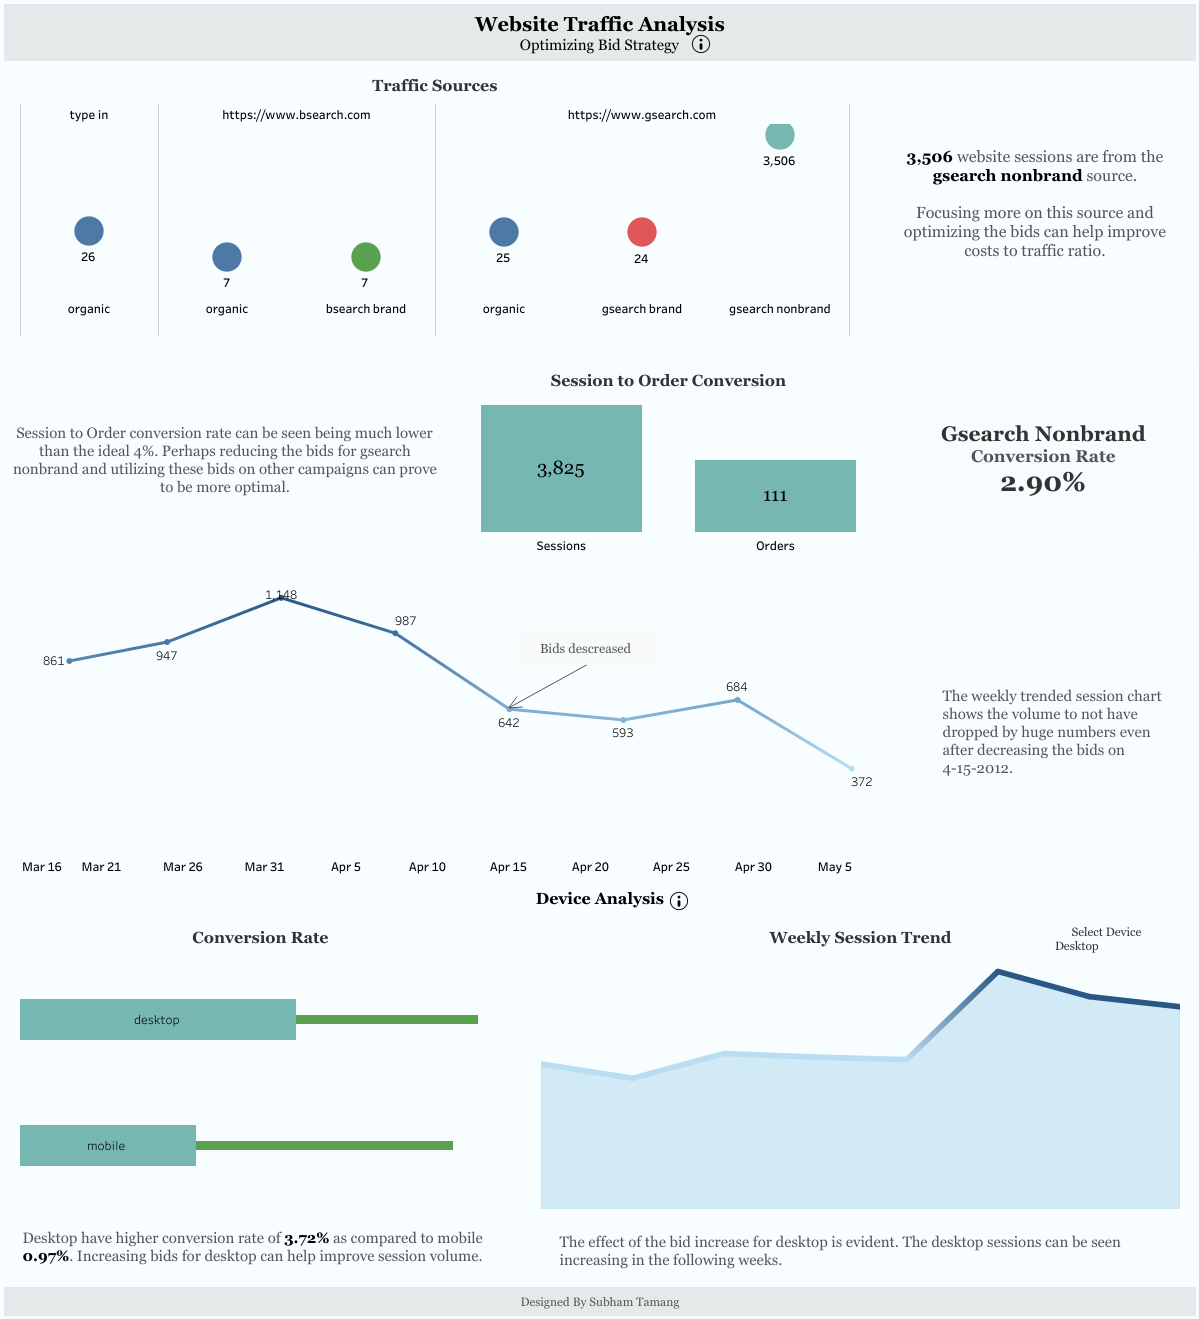

The page's visual inventory and layout, read from the dashboard file:
{"tool":"tableau","page":{"name":"Dashboard","canvas":[1200,1320],"ordinal":0},"visuals":[{"type":"text","box":[0,0,1200,65]},{"type":"worksheet","title":"Info","mark":"Shape","box":[688,31,25,25]},{"type":"worksheet","title":"Session Source","mark":"Shape","rows":["sessions"],"cols":["http_referer","Calculation_175640444484722689"],"box":[0,65,870,276]},{"type":"text","box":[870,65,330,276]},{"type":"blank","box":[0,341,1200,20]},{"type":"text","box":[0,361,450,197]},{"type":"worksheet","title":"Session to Order","mark":"Automatic","box":[450,361,437,197]},{"type":"worksheet","title":"Conversion Rate","mark":"Text","box":[887,361,313,197]},{"type":"blank","box":[0,558,1200,20]},{"type":"worksheet","title":"Weekly Trend","mark":"Automatic","rows":["sessions (3.trended analysis_.csv)"],"cols":["week_start_date"],"box":[0,578,920,307]},{"type":"text","box":[920,578,280,307]},{"type":"text","box":[0,885,1200,27]},{"type":"worksheet","title":"Info (2)","mark":"Shape","box":[666,888,25,25]},{"type":"worksheet","title":"Device CVR","mark":"Bar","rows":["device_type"],"cols":["sessions (4. device type_.csv)","orders (4. device type_.csv)"],"box":[0,912,521,307]},{"type":"worksheet","title":"Device Trend","mark":"Area","rows":["Calculation_557883462954016770","Calculation_557883462954016770"],"cols":["week_start_date (5. Response to bid changes.csv)"],"box":[521,912,679,307]},{"type":"parameter","param":"[Parameters].[Parameter 1]","box":[1053,924,107,42]},{"type":"text","box":[0,1219,532,56]},{"type":"text","box":[532,1219,668,64]},{"type":"text","box":[0,1283,1200,37]}]}

Visuals, with their boxes in screenshot pixels (x1, y1, x2, y2), scaled from the page's 1200x1320 canvas onto the 1199x1319 screenshot:
text: box(0, 0, 1198, 65)
"Info" worksheet (Shape marks): box(687, 31, 712, 56)
"Session Source" worksheet (Shape marks): box(0, 65, 869, 341)
text: box(869, 65, 1198, 341)
blank: box(0, 341, 1198, 361)
text: box(0, 361, 450, 558)
"Session to Order" worksheet: box(450, 361, 886, 558)
"Conversion Rate" worksheet (Text marks): box(886, 361, 1198, 558)
blank: box(0, 558, 1198, 578)
"Weekly Trend" worksheet: box(0, 578, 919, 884)
text: box(919, 578, 1198, 884)
text: box(0, 884, 1198, 911)
"Info (2)" worksheet (Shape marks): box(665, 887, 690, 912)
"Device CVR" worksheet (Bar marks): box(0, 911, 521, 1218)
"Device Trend" worksheet (Area marks): box(521, 911, 1198, 1218)
parameter: box(1052, 923, 1159, 965)
text: box(0, 1218, 532, 1274)
text: box(532, 1218, 1198, 1282)
text: box(0, 1282, 1198, 1318)
